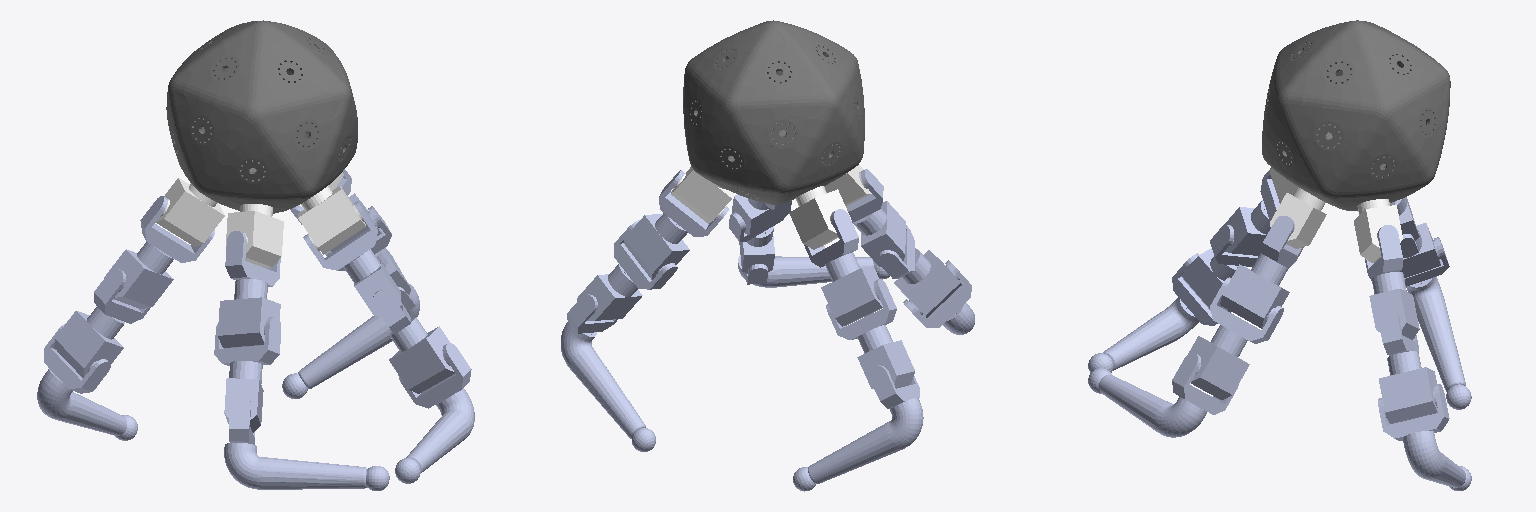
robot.urdf — mod_test:
<?xml version="1.0" encoding="utf-8"?>
<robot
  name="mod_test">
  <link
    name="base_link">
    <inertial>
      <origin
        xyz="-1.5226495220944E-06 1.5812928362389E-07 -5.05247252856584E-07"
        rpy="0 0 0" />
      <mass
        value="0.422806992949252" />
      <inertia
        ixx="0.00237499139253511"
        ixy="1.5717831530364E-08"
        ixz="1.49286265366169E-08"
        iyy="0.00237502154661776"
        iyz="-2.02154172619351E-08"
        izz="0.00237502595466009" />
    </inertial>
    <visual>
      <origin
        xyz="0 0 0"
        rpy="0 0 0" />
      <geometry>
        <mesh
          filename="package://meshes/base_link.STL" />
      </geometry>
      <material
        name="">
        <color
          rgba="0.498039215686275 0.498039215686275 0.498039215686275 1" />
      </material>
    </visual>
    <collision>
      <origin
        xyz="0 0 0"
        rpy="0 0 0" />
      <geometry>
        <mesh
          filename="package://meshes/base_link.STL" />
      </geometry>
    </collision>
  </link>
  <link
   name="150">
   <inertial>
      <origin
        xyz="0 0 0.028508"
        rpy="0 0 0" />
      <mass
        value="0.076173" />
      <inertia
        ixx="3.054E-05"
        ixy="0.000000"
        ixz="-0.000000"
        iyy="2.1077E-05"
        iyz="-0.000000"
        izz="2.1165E-05" />
    </inertial>
    <visual>
      <origin
        xyz="0 0 0"
        rpy="0 0 0" />
      <geometry>
        <mesh
          filename="package://meshes/1.STL" />
      </geometry>
      <material
        name="">
        <color
          rgba="1 1 1 1" />
      </material>
    </visual>
    <collision>
      <origin
        xyz="0 0 0"
        rpy="0 0 0" />
      <geometry>
        <mesh
          filename="package://meshes/1.STL" />
      </geometry>
    </collision>
  </link>
  <joint
    name="body_150"
    type="fixed">
    <origin
        xyz="0.031905 -0.043913 -0.071046"
        rpy="2.557073 0.308415 1.058448" />
    <parent
      link="base_link" />
    <child
      link="150" />
    <axis
      xyz="0 0 0" />
  </joint>
  <link
    name="151">
    <inertial>
      <origin
        xyz="0.060018 -1.4108E-06 1.4108E-06"
        rpy="0 0 0" />
    <mass
        value="0.10689" />
      <inertia
        ixx="3.2684e-05"
        ixy="-2.5662e-09"
        ixz="2.5662e-09"
        iyy="8.4132e-05"
        iyz="-2.1275e-13"
        izz="8.4583e-05" />
    </inertial>
    <visual>
      <origin
        xyz="0 0 0"
        rpy="0 0 0" />
      <geometry>
        <mesh
          filename="package://meshes/module9.STL" />
      </geometry>
      <material
        name="">
        <color
          rgba="0.79216 0.81961 0.93333 1" />
      </material>
    </visual>
    <collision>
      <origin
        xyz="0 0 0"
        rpy="0 0 0" />
      <geometry>
        <mesh
          filename="package://meshes/module9.STL" />
      </geometry>
    </collision>
  </link>
  <joint
    name="150_151"
    type="revolute">
    <origin
      xyz="0 0 0.04"
      rpy="-1.558 -1.5708 -0.012835" />
    <parent
      link="150" />
    <child
      link="151" />
    <axis
      xyz="0 0 1" />
    <limit
      lower="-6.28"
      upper="6.28"
      effort="10"
      velocity="100" />
  </joint>
  <link
    name="152">
    <inertial>
      <origin
        xyz="0.060018 -1.4108E-06 1.4108E-06"
        rpy="0 0 0" />
    <mass
        value="0.10689" />
      <inertia
        ixx="3.2241e-05"
        ixy="3.5298e-07"
        ixz="2.0781e-07"
        iyy="8.5969e-05"
        iyz="-3.9192e-06"
        izz="8.1482e-05" />
    </inertial>
    <visual>
      <origin
        xyz="0 0 0"
        rpy="0 0 0" />
      <geometry>
        <mesh
          filename="package://meshes/module4.STL" />
      </geometry>
      <material
        name="">
        <color
          rgba="0.79216 0.81961 0.93333 1" />
      </material>
    </visual>
    <collision>
      <origin
        xyz="0 0 0"
        rpy="0 0 0" />
      <geometry>
        <mesh
          filename="package://meshes/module4.STL" />
      </geometry>
    </collision>
  </link>
  <joint
    name="151_152"
    type="revolute">
    <origin
      xyz="0.0816 0 0"
      rpy="4.712389 0 0" />
    <parent
      link="151" />
    <child
      link="152" />
    <axis
      xyz="0 0 1" />
    <limit
      lower="-6.28"
      upper="6.28"
      effort="10"
      velocity="100" />
  </joint>
  <link
    name="153">
    <inertial>
      <origin
        xyz="0.051733 -0.042281 -1.3878E-17"
        rpy="0 0 0" />
    <mass
        value="0.12059" />
      <inertia
        ixx="0.00025425"
        ixy="4.8319E-05"
        ixz="0"
        iyy="5.0194E-05"
        iyz="-3.3141E-21"
        izz="0.00027482" />
    </inertial>
    <visual>
      <origin
        xyz="0 0 0"
        rpy="0 0 0" />
      <geometry>
        <mesh
          filename="package://meshes/leg.STL" />
      </geometry>
      <material
        name="">
        <color
          rgba="0.79216 0.81961 0.93333 1" />
      </material>
    </visual>
    <collision>
      <origin
        xyz="0 0 0"
        rpy="0 0 0" />
      <geometry>
        <mesh
          filename="package://meshes/leg.STL" />
      </geometry>
    </collision>
  </link>
  <joint
    name="152_153"
    type="revolute">
    <origin
      xyz="0.0816 0 0"
      rpy="2.094395 0 0" />
    <parent
      link="152" />
    <child
      link="153" />
    <axis
      xyz="0 0 1" />
    <limit
      lower="-6.28"
      upper="6.28"
      effort="10"
      velocity="100" />
  </joint>
  <link
   name="160">
   <inertial>
      <origin
        xyz="0 0 0.028508"
        rpy="0 0 0" />
      <mass
        value="0.076173" />
      <inertia
        ixx="3.054E-05"
        ixy="-0.000000"
        ixz="-0.000000"
        iyy="2.1077E-05"
        iyz="-0.000000"
        izz="2.1165E-05" />
    </inertial>
    <visual>
      <origin
        xyz="0 0 0"
        rpy="0 0 0" />
      <geometry>
        <mesh
          filename="package://meshes/1.STL" />
      </geometry>
      <material
        name="">
        <color
          rgba="1 1 1 1" />
      </material>
    </visual>
    <collision>
      <origin
        xyz="0 0 0"
        rpy="0 0 0" />
      <geometry>
        <mesh
          filename="package://meshes/1.STL" />
      </geometry>
    </collision>
  </link>
  <joint
    name="body_160"
    type="fixed">
    <origin
        xyz="0.051623 0.016773 -0.071046"
        rpy="2.489189 -0.000000 1.884956" />
    <parent
      link="base_link" />
    <child
      link="160" />
    <axis
      xyz="0 0 0" />
  </joint>
  <link
    name="161">
    <inertial>
      <origin
        xyz="0.060018 -1.4108E-06 1.4108E-06"
        rpy="0 0 0" />
    <mass
        value="0.10689" />
      <inertia
        ixx="3.2684e-05"
        ixy="-2.5662e-09"
        ixz="2.5662e-09"
        iyy="9.1229e-05"
        iyz="4.0975e-06"
        izz="7.7485e-05" />
    </inertial>
    <visual>
      <origin
        xyz="0 0 0"
        rpy="0 0 0" />
      <geometry>
        <mesh
          filename="package://meshes/module7.STL" />
      </geometry>
      <material
        name="">
        <color
          rgba="0.79216 0.81961 0.93333 1" />
      </material>
    </visual>
    <collision>
      <origin
        xyz="0 0 0"
        rpy="0 0 0" />
      <geometry>
        <mesh
          filename="package://meshes/module7.STL" />
      </geometry>
    </collision>
  </link>
  <joint
    name="160_161"
    type="revolute">
    <origin
      xyz="0 0 0.04"
      rpy="-1.558 -1.5708 -0.012835" />
    <parent
      link="160" />
    <child
      link="161" />
    <axis
      xyz="0 0 1" />
    <limit
      lower="-6.28"
      upper="6.28"
      effort="10"
      velocity="100" />
  </joint>
  <link
    name="162">
    <inertial>
      <origin
        xyz="0.060018 -1.4108E-06 1.4108E-06"
        rpy="0 0 0" />
    <mass
        value="0.10689" />
      <inertia
        ixx="3.2684e-05"
        ixy="-2.5662e-09"
        ixz="2.5662e-09"
        iyy="8.4132e-05"
        iyz="-2.1275e-13"
        izz="8.4583e-05" />
    </inertial>
    <visual>
      <origin
        xyz="0 0 0"
        rpy="0 0 0" />
      <geometry>
        <mesh
          filename="package://meshes/module9.STL" />
      </geometry>
      <material
        name="">
        <color
          rgba="0.79216 0.81961 0.93333 1" />
      </material>
    </visual>
    <collision>
      <origin
        xyz="0 0 0"
        rpy="0 0 0" />
      <geometry>
        <mesh
          filename="package://meshes/module9.STL" />
      </geometry>
    </collision>
  </link>
  <joint
    name="161_162"
    type="revolute">
    <origin
      xyz="0.0816 0 0"
      rpy="3.665191 0 0" />
    <parent
      link="161" />
    <child
      link="162" />
    <axis
      xyz="0 0 1" />
    <limit
      lower="-6.28"
      upper="6.28"
      effort="10"
      velocity="100" />
  </joint>
  <link
    name="163">
    <inertial>
      <origin
        xyz="0.051733 -0.042281 -1.3878E-17"
        rpy="0 0 0" />
    <mass
        value="0.12059" />
      <inertia
        ixx="0.00025425"
        ixy="4.8319E-05"
        ixz="0"
        iyy="5.0194E-05"
        iyz="-3.3141E-21"
        izz="0.00027482" />
    </inertial>
    <visual>
      <origin
        xyz="0 0 0"
        rpy="0 0 0" />
      <geometry>
        <mesh
          filename="package://meshes/leg.STL" />
      </geometry>
      <material
        name="">
        <color
          rgba="0.79216 0.81961 0.93333 1" />
      </material>
    </visual>
    <collision>
      <origin
        xyz="0 0 0"
        rpy="0 0 0" />
      <geometry>
        <mesh
          filename="package://meshes/leg.STL" />
      </geometry>
    </collision>
  </link>
  <joint
    name="162_163"
    type="revolute">
    <origin
      xyz="0.0816 0 0"
      rpy="4.712389 0 0" />
    <parent
      link="162" />
    <child
      link="163" />
    <axis
      xyz="0 0 1" />
    <limit
      lower="-6.28"
      upper="6.28"
      effort="10"
      velocity="100" />
  </joint>
  <link
   name="180">
   <inertial>
      <origin
        xyz="0 0 0.028508"
        rpy="0 0 0" />
      <mass
        value="0.076173" />
      <inertia
        ixx="3.054E-05"
        ixy="-0.000000"
        ixz="-0.000000"
        iyy="2.1077E-05"
        iyz="0.000000"
        izz="2.1165E-05" />
    </inertial>
    <visual>
      <origin
        xyz="0 0 0"
        rpy="0 0 0" />
      <geometry>
        <mesh
          filename="package://meshes/1.STL" />
      </geometry>
      <material
        name="">
        <color
          rgba="1 1 1 1" />
      </material>
    </visual>
    <collision>
      <origin
        xyz="0 0 0"
        rpy="0 0 0" />
      <geometry>
        <mesh
          filename="package://meshes/1.STL" />
      </geometry>
    </collision>
  </link>
  <joint
    name="body_180"
    type="fixed">
    <origin
        xyz="-0.051623 0.016773 -0.071046"
        rpy="-2.489189 -0.000000 1.256637" />
    <parent
      link="base_link" />
    <child
      link="180" />
    <axis
      xyz="0 0 0" />
  </joint>
  <link
    name="181">
    <inertial>
      <origin
        xyz="0.060018 -1.4108E-06 1.4108E-06"
        rpy="0 0 0" />
    <mass
        value="0.10689" />
      <inertia
        ixx="3.2684e-05"
        ixy="-2.5662e-09"
        ixz="2.5662e-09"
        iyy="9.1229e-05"
        iyz="-4.0975e-06"
        izz="7.7485e-05" />
    </inertial>
    <visual>
      <origin
        xyz="0 0 0"
        rpy="0 0 0" />
      <geometry>
        <mesh
          filename="package://meshes/module5.STL" />
      </geometry>
      <material
        name="">
        <color
          rgba="0.79216 0.81961 0.93333 1" />
      </material>
    </visual>
    <collision>
      <origin
        xyz="0 0 0"
        rpy="0 0 0" />
      <geometry>
        <mesh
          filename="package://meshes/module5.STL" />
      </geometry>
    </collision>
  </link>
  <joint
    name="180_181"
    type="revolute">
    <origin
      xyz="0 0 0.04"
      rpy="-1.558 -1.5708 -0.012835" />
    <parent
      link="180" />
    <child
      link="181" />
    <axis
      xyz="0 0 1" />
    <limit
      lower="-6.28"
      upper="6.28"
      effort="10"
      velocity="100" />
  </joint>
  <link
    name="182">
    <inertial>
      <origin
        xyz="0.060018 -1.4108E-06 1.4108E-06"
        rpy="0 0 0" />
    <mass
        value="0.10689" />
      <inertia
        ixx="3.2684e-05"
        ixy="-2.5662e-09"
        ixz="2.5662e-09"
        iyy="8.4132e-05"
        iyz="-2.1275e-13"
        izz="8.4583e-05" />
    </inertial>
    <visual>
      <origin
        xyz="0 0 0"
        rpy="0 0 0" />
      <geometry>
        <mesh
          filename="package://meshes/module3.STL" />
      </geometry>
      <material
        name="">
        <color
          rgba="0.79216 0.81961 0.93333 1" />
      </material>
    </visual>
    <collision>
      <origin
        xyz="0 0 0"
        rpy="0 0 0" />
      <geometry>
        <mesh
          filename="package://meshes/module3.STL" />
      </geometry>
    </collision>
  </link>
  <joint
    name="181_182"
    type="revolute">
    <origin
      xyz="0.0816 0 0"
      rpy="2.617994 0 0" />
    <parent
      link="181" />
    <child
      link="182" />
    <axis
      xyz="0 0 1" />
    <limit
      lower="-6.28"
      upper="6.28"
      effort="10"
      velocity="100" />
  </joint>
  <link
    name="183">
    <inertial>
      <origin
        xyz="0.051733 -0.042281 -1.3878E-17"
        rpy="0 0 0" />
    <mass
        value="0.12059" />
      <inertia
        ixx="0.00025425"
        ixy="4.8319E-05"
        ixz="0"
        iyy="5.0194E-05"
        iyz="-3.3141E-21"
        izz="0.00027482" />
    </inertial>
    <visual>
      <origin
        xyz="0 0 0"
        rpy="0 0 0" />
      <geometry>
        <mesh
          filename="package://meshes/leg.STL" />
      </geometry>
      <material
        name="">
        <color
          rgba="0.79216 0.81961 0.93333 1" />
      </material>
    </visual>
    <collision>
      <origin
        xyz="0 0 0"
        rpy="0 0 0" />
      <geometry>
        <mesh
          filename="package://meshes/leg.STL" />
      </geometry>
    </collision>
  </link>
  <joint
    name="182_183"
    type="revolute">
    <origin
      xyz="0.0816 0 0"
      rpy="1.570796 0 0" />
    <parent
      link="182" />
    <child
      link="183" />
    <axis
      xyz="0 0 1" />
    <limit
      lower="-6.28"
      upper="6.28"
      effort="10"
      velocity="100" />
  </joint>
  <link
   name="190">
   <inertial>
      <origin
        xyz="0 0 0.028508"
        rpy="0 0 0" />
      <mass
        value="0.076173" />
      <inertia
        ixx="3.054E-05"
        ixy="-0.000000"
        ixz="-0.000000"
        iyy="2.1077E-05"
        iyz="-0.000000"
        izz="2.1165E-05" />
    </inertial>
    <visual>
      <origin
        xyz="0 0 0"
        rpy="0 0 0" />
      <geometry>
        <mesh
          filename="package://meshes/1.STL" />
      </geometry>
      <material
        name="">
        <color
          rgba="1 1 1 1" />
      </material>
    </visual>
    <collision>
      <origin
        xyz="0 0 0"
        rpy="0 0 0" />
      <geometry>
        <mesh
          filename="package://meshes/1.STL" />
      </geometry>
    </collision>
  </link>
  <joint
    name="body_190"
    type="fixed">
    <origin
        xyz="-0.031905 -0.043913 -0.071046"
        rpy="-2.557073 0.308415 2.083145" />
    <parent
      link="base_link" />
    <child
      link="190" />
    <axis
      xyz="0 0 0" />
  </joint>
  <link
    name="191">
    <inertial>
      <origin
        xyz="0.060018 -1.4108E-06 1.4108E-06"
        rpy="0 0 0" />
    <mass
        value="0.10689" />
      <inertia
        ixx="3.2684e-05"
        ixy="-2.5662e-09"
        ixz="2.5662e-09"
        iyy="8.4132e-05"
        iyz="-2.1275e-13"
        izz="8.4583e-05" />
    </inertial>
    <visual>
      <origin
        xyz="0 0 0"
        rpy="0 0 0" />
      <geometry>
        <mesh
          filename="package://meshes/module3.STL" />
      </geometry>
      <material
        name="">
        <color
          rgba="0.79216 0.81961 0.93333 1" />
      </material>
    </visual>
    <collision>
      <origin
        xyz="0 0 0"
        rpy="0 0 0" />
      <geometry>
        <mesh
          filename="package://meshes/module3.STL" />
      </geometry>
    </collision>
  </link>
  <joint
    name="190_191"
    type="revolute">
    <origin
      xyz="0 0 0.04"
      rpy="-1.558 -1.5708 -0.012835" />
    <parent
      link="190" />
    <child
      link="191" />
    <axis
      xyz="0 0 1" />
    <limit
      lower="-6.28"
      upper="6.28"
      effort="10"
      velocity="100" />
  </joint>
  <link
    name="192">
    <inertial>
      <origin
        xyz="0.060018 -1.4108E-06 1.4108E-06"
        rpy="0 0 0" />
    <mass
        value="0.10689" />
      <inertia
        ixx="3.2684e-05"
        ixy="-2.5662e-09"
        ixz="2.5662e-09"
        iyy="8.6498e-05"
        iyz="4.0975e-06"
        izz="8.2217e-05" />
    </inertial>
    <visual>
      <origin
        xyz="0 0 0"
        rpy="0 0 0" />
      <geometry>
        <mesh
          filename="package://meshes/module8.STL" />
      </geometry>
      <material
        name="">
        <color
          rgba="0.79216 0.81961 0.93333 1" />
      </material>
    </visual>
    <collision>
      <origin
        xyz="0 0 0"
        rpy="0 0 0" />
      <geometry>
        <mesh
          filename="package://meshes/module8.STL" />
      </geometry>
    </collision>
  </link>
  <joint
    name="191_192"
    type="revolute">
    <origin
      xyz="0.0816 0 0"
      rpy="1.570796 0 0" />
    <parent
      link="191" />
    <child
      link="192" />
    <axis
      xyz="0 0 1" />
    <limit
      lower="-6.28"
      upper="6.28"
      effort="10"
      velocity="100" />
  </joint>
  <link
    name="193">
    <inertial>
      <origin
        xyz="0.051733 -0.042281 -1.3878E-17"
        rpy="0 0 0" />
    <mass
        value="0.12059" />
      <inertia
        ixx="0.00025425"
        ixy="4.8319E-05"
        ixz="0"
        iyy="5.0194E-05"
        iyz="-3.3141E-21"
        izz="0.00027482" />
    </inertial>
    <visual>
      <origin
        xyz="0 0 0"
        rpy="0 0 0" />
      <geometry>
        <mesh
          filename="package://meshes/leg.STL" />
      </geometry>
      <material
        name="">
        <color
          rgba="0.79216 0.81961 0.93333 1" />
      </material>
    </visual>
    <collision>
      <origin
        xyz="0 0 0"
        rpy="0 0 0" />
      <geometry>
        <mesh
          filename="package://meshes/leg.STL" />
      </geometry>
    </collision>
  </link>
  <joint
    name="192_193"
    type="revolute">
    <origin
      xyz="0.0816 0 0"
      rpy="4.188790 0 0" />
    <parent
      link="192" />
    <child
      link="193" />
    <axis
      xyz="0 0 1" />
    <limit
      lower="-6.28"
      upper="6.28"
      effort="10"
      velocity="100" />
  </joint>
  <link
    name = "ball_1">
    <inertial>
    <origin
        xyz="0 0 0"
        rpy="0 0 0" />
    <mass
        value="0" />
      <inertia
        ixx="0"
        ixy="0"
        ixz="0"
        iyy="0"
        iyz="0"
        izz="0" />
    </inertial>    <visual>
      <origin
        xyz="0 0 0"
        rpy="0 0 0" />
     <geometry>
        <sphere radius = "0.01"/>
      </geometry>
      <material
        name="green">
        <color
          rgba="0.22 1 0.4 1" />
      </material>
    </visual>
  </link>
  <joint
  name="153_ball1"
  type="fixed">
    <origin
      xyz="0.0612 -0.13431 0"
      rpy="0 0 0" />
    <parent
      link="153" />
    <child
      link="ball_1" />
    <axis
      xyz="0 0 0" />
  </joint>
  <link
    name = "ball_2">
    <inertial>
    <origin
        xyz="0 0 0"
        rpy="0 0 0" />
    <mass
        value="0" />
      <inertia
        ixx="0"
        ixy="0"
        ixz="0"
        iyy="0"
        iyz="0"
        izz="0" />
    </inertial>    <visual>
      <origin
        xyz="0 0 0"
        rpy="0 0 0" />
      <geometry>
        <sphere radius = "0.01"/>
      </geometry>
      <material
        name="blue">
        <color
          rgba="0.16 0.52 0.8 1" />
      </material>
    </visual>
  </link>
  <joint
  name="163_ball2"
  type="fixed">
    <origin
      xyz="0.0612 -0.13431 0"
      rpy="0 0 0" />
    <parent
      link="163" />
    <child
      link="ball_2" />
    <axis
      xyz="0 0 0" />
  </joint>
  <link
    name = "ball_3">
    <inertial>
    <origin
        xyz="0 0 0"
        rpy="0 0 0" />
    <mass
        value="0" />
      <inertia
        ixx="0"
        ixy="0"
        ixz="0"
        iyy="0"
        iyz="0"
        izz="0" />
    </inertial>    <visual>
      <origin
        xyz="0 0 0"
        rpy="0 0 0" />
     <geometry>
        <sphere radius = "0.01"/>
      </geometry>
      <material
        name="blue">
        <color
          rgba="0.16 0.52 0.8 1" />
      </material>
    </visual>
  </link>
  <joint
  name="183_ball3"
  type="fixed">
    <origin
      xyz="0.0612 -0.13431 0"
      rpy="0 0 0" />
    <parent
      link="183" />
    <child
      link="ball_3" />
    <axis
      xyz="0 0 0" />
  </joint>
  <link
    name = "ball_4">
    <inertial>
    <origin
        xyz="0 0 0"
        rpy="0 0 0" />
    <mass
        value="0" />
      <inertia
        ixx="0"
        ixy="0"
        ixz="0"
        iyy="0"
        iyz="0"
        izz="0" />
    </inertial>    <visual>
      <origin
        xyz="0 0 0"
        rpy="0 0 0" />
      <geometry>
        <sphere radius = "0.01"/>
      </geometry>
      <material
        name="yellow">
        <color
          rgba="1 1 0 1" />
      </material>
    </visual>
  </link>
  <joint
  name="193_ball4"
  type="fixed">
    <origin
      xyz="0.0612 -0.13431 0"
      rpy="0 0 0" />
    <parent
      link="193" />
    <child
      link="ball_4" />
    <axis
      xyz="0 0 0" />
  </joint>
</robot>

--- Facts derived from the render (not from the file) ---
Views: 3 orthographic renders of the robot side by side, from view 1: azimuth 30°, elevation 25°; view 2: azimuth 150°, elevation 25°; view 3: azimuth 270°, elevation 25°.
Model mod_test with 21 links and 20 joints (12 revolute, 8 fixed), rooted at base_link, posed every joint at zero.
Links seen in each view (by area): view 1: base_link, 193, 153, 183, 191, 182, 181, 152, 163, 192, 151, 150 (+4 smaller); view 2: base_link, 183, 163, 181, 161, 182, 192, 162, 191, 153, 180, 160 (+4 smaller); view 3: base_link, 153, 151, 162, 152, 183, 193, 163, 161, 192, 191, 150 (+3 smaller).
Link boxes in pixels (box(x1,y1,x2,y2)): base_link: box(166, 20, 357, 213); 193: box(224, 394, 389, 490); 153: box(395, 343, 474, 483); 183: box(37, 323, 137, 440); 191: box(218, 231, 280, 348); 182: box(54, 269, 149, 377); 181: box(104, 196, 214, 308); 152: box(373, 290, 454, 393); 163: box(282, 283, 419, 398); 192: box(214, 317, 280, 432); 151: box(303, 201, 400, 316); 150: box(298, 186, 365, 254); base_link: box(683, 20, 864, 204); 183: box(793, 365, 923, 491); 163: box(561, 294, 655, 451); 181: box(804, 209, 882, 326); 161: box(624, 170, 728, 279); 182: box(826, 279, 914, 389); 192: box(878, 225, 961, 317); 162: box(577, 220, 677, 320); 191: box(846, 169, 905, 266); 153: box(738, 255, 889, 287); 180: box(789, 186, 851, 249); 160: box(671, 167, 734, 223); base_link: box(1262, 20, 1450, 210); 153: box(1088, 353, 1238, 437); 151: box(1220, 216, 1303, 328); 162: box(1378, 307, 1438, 423); 152: box(1188, 277, 1283, 399); 183: box(1404, 237, 1471, 409); 193: box(1088, 253, 1230, 372); 163: box(1378, 384, 1471, 490); 161: box(1365, 225, 1419, 339); 192: box(1181, 225, 1257, 310); 191: box(1224, 167, 1279, 255); 150: box(1270, 187, 1326, 248).
Bounding box of the posed robot: 0.4247 × 0.3796 × 0.4667 m (x, y, z).
17 mesh visuals loaded from 9 distinct referenced files (9 binary STL).